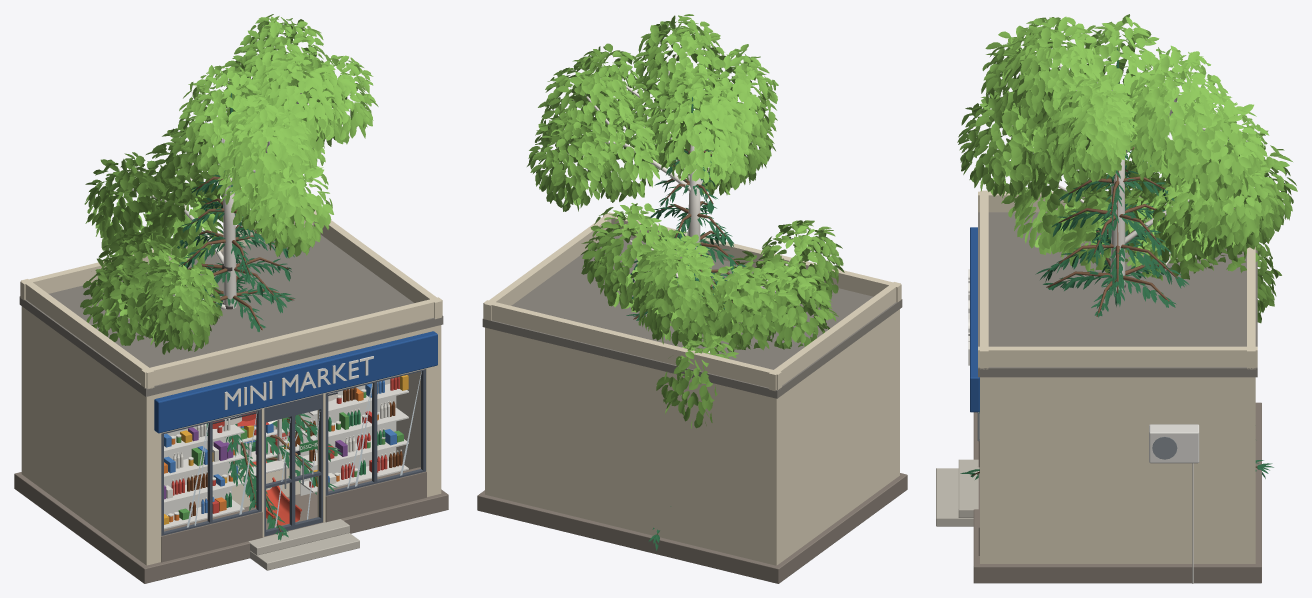
The model's file is street_kit.glb.
3 renders of one model, left to right at view 1: azimuth 30°, elevation 25°; view 2: azimuth 150°, elevation 25°; view 3: azimuth 270°, elevation 25°, orthographic. The views are drawn at different scales.
Parts seen in each view (by area): view 1: mini_market, tree_birch, tree_pine, kiosk, slide; view 2: mini_market, tree_birch, tree_pine; view 3: mini_market, tree_birch, tree_pine.
Boxes of the visible parts, box(x1,y1,x2,y2) form: mini_market: box(14, 210, 448, 583); tree_birch: box(80, 14, 378, 354); tree_pine: box(177, 93, 342, 540); kiosk: box(212, 392, 337, 507); slide: box(242, 460, 301, 525); mini_market: box(477, 212, 907, 583); tree_birch: box(527, 14, 844, 428); tree_pine: box(626, 97, 746, 550); mini_market: box(936, 190, 1261, 583); tree_birch: box(957, 14, 1297, 323); tree_pine: box(960, 47, 1273, 479).
Size of the model in its own units: 6.45 by 8.94 by 5.78.
